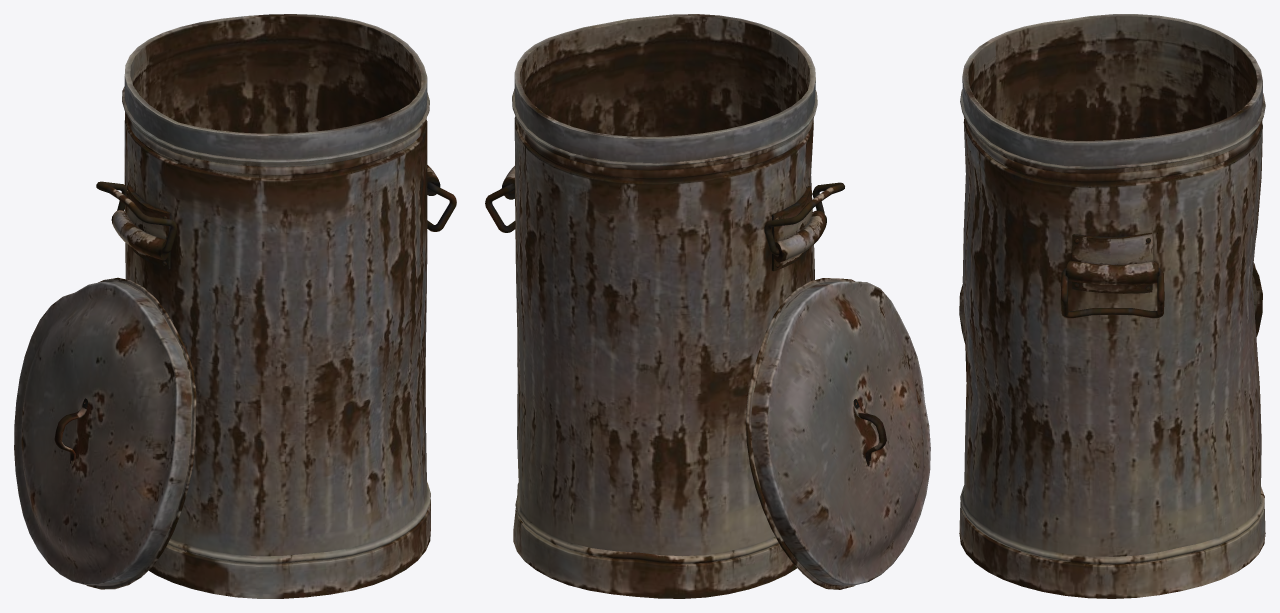
The model's file is bin_metal.glb.
3 views of the same model, side by side, from view 1: azimuth 30°, elevation 25°; view 2: azimuth 150°, elevation 25°; view 3: azimuth 270°, elevation 25° (orthographic).
Visible parts, largest first — view 1: metal_trash_can_rust, metal_trash_can_rust_lid, metal_trash_can_rust_handle_left, metal_trash_can_rust_handle_right; view 2: metal_trash_can_rust, metal_trash_can_rust_lid, metal_trash_can_rust_handle_left, metal_trash_can_rust_handle_right; view 3: metal_trash_can_rust, metal_trash_can_rust_handle_right, metal_trash_can_rust_lid.
Boxes of the visible parts, x1,y1,x2,y2 form: metal_trash_can_rust: (111, 14, 440, 598); metal_trash_can_rust_lid: (14, 277, 196, 589); metal_trash_can_rust_handle_left: (96, 181, 177, 254); metal_trash_can_rust_handle_right: (427, 182, 456, 231); metal_trash_can_rust: (501, 14, 826, 598); metal_trash_can_rust_lid: (746, 278, 930, 589); metal_trash_can_rust_handle_left: (764, 182, 844, 255); metal_trash_can_rust_handle_right: (485, 183, 515, 232); metal_trash_can_rust: (959, 14, 1265, 598); metal_trash_can_rust_handle_right: (1061, 267, 1164, 318); metal_trash_can_rust_lid: (959, 262, 1262, 343).
Bounding box in the file's own units: 0.7733 × 0.9062 × 0.549.
1 material, 1 textured.
